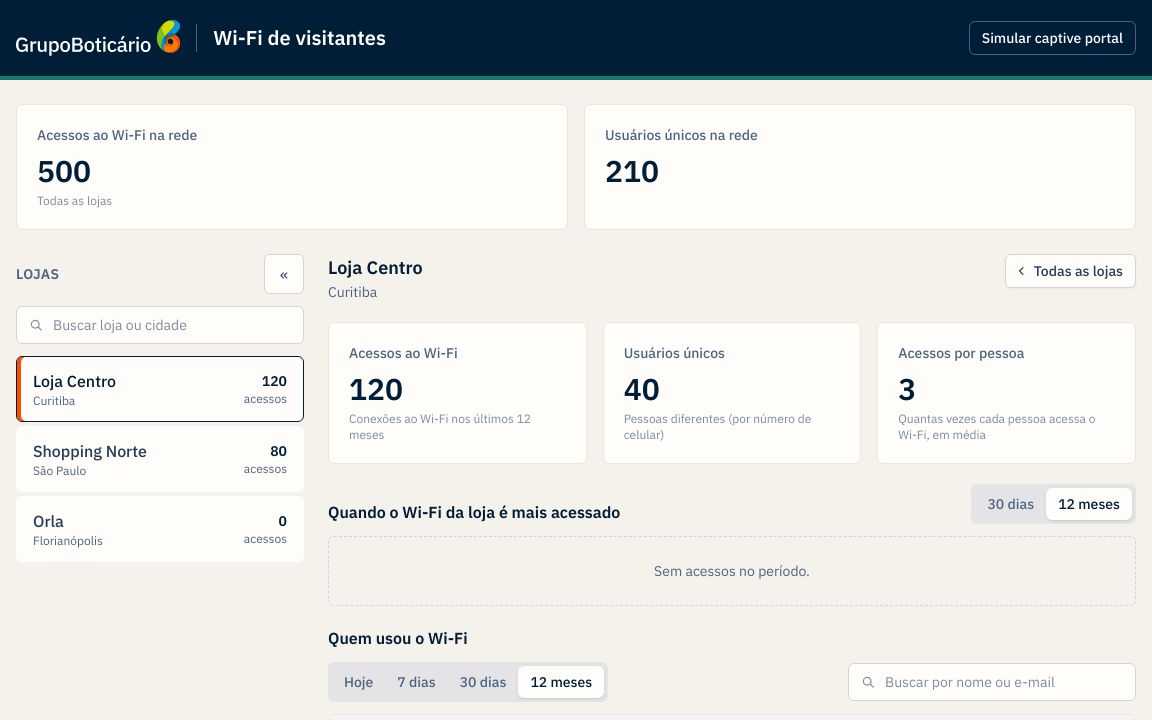
Test: DashboardPage: grade de lojas › "Todas as lojas" tira a seleção e volta pra grade
Click the button "Todas as lojas".
click(1070, 271)  # box [1005,254,1136,288]
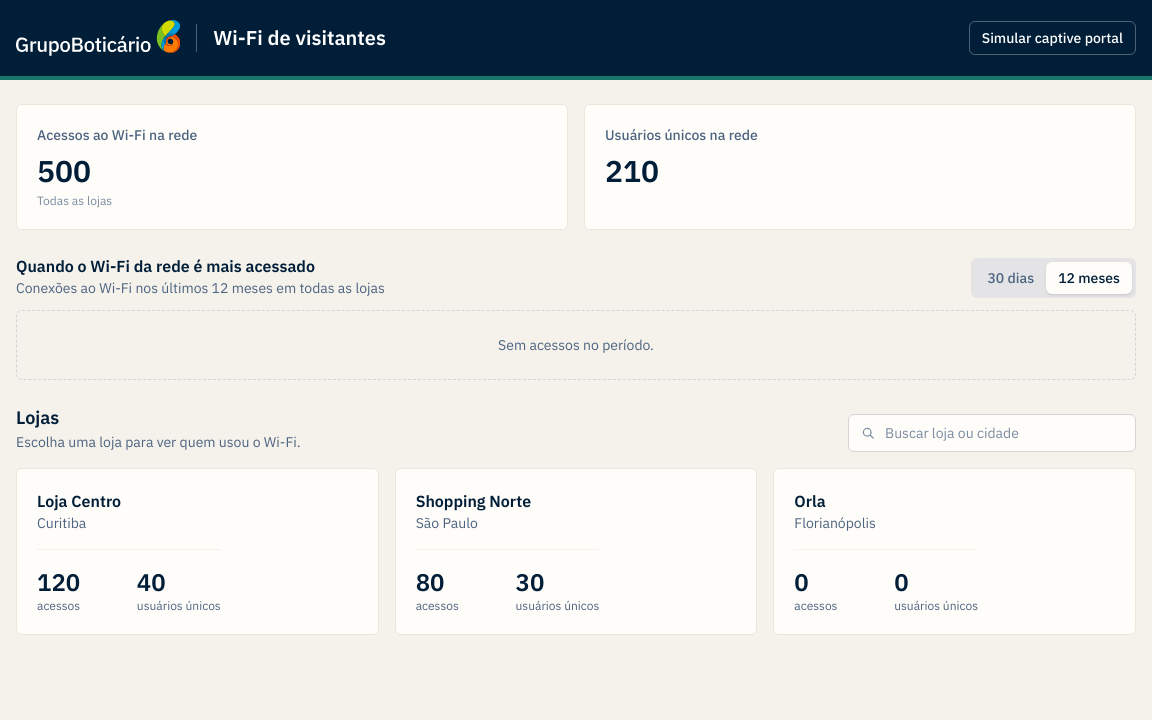
expect the number of list items is 3: met, box [16,468,379,635]; [395,468,757,635]; [773,468,1136,635]
